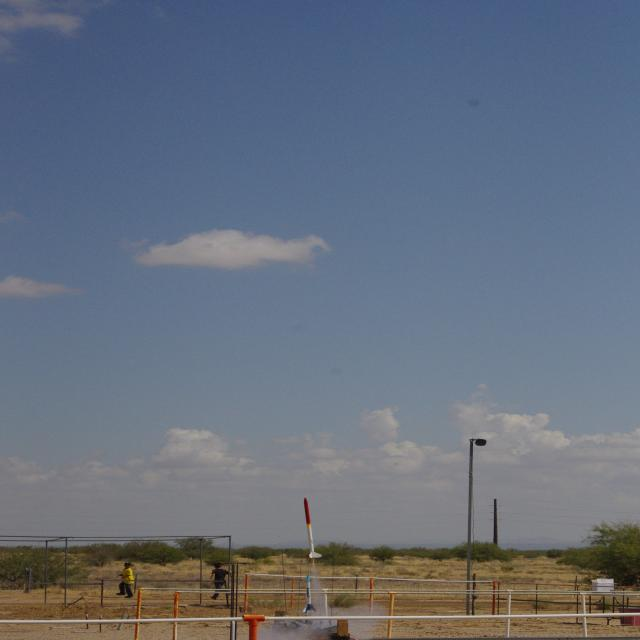Rocket: (303, 498, 322, 558), (300, 574, 317, 613)
